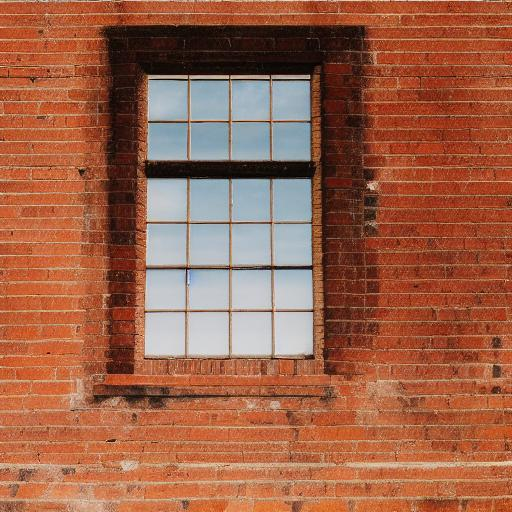Window: (93, 26, 378, 398)
